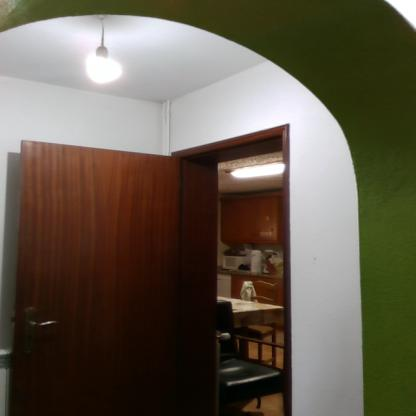open: (0, 106, 305, 416)
